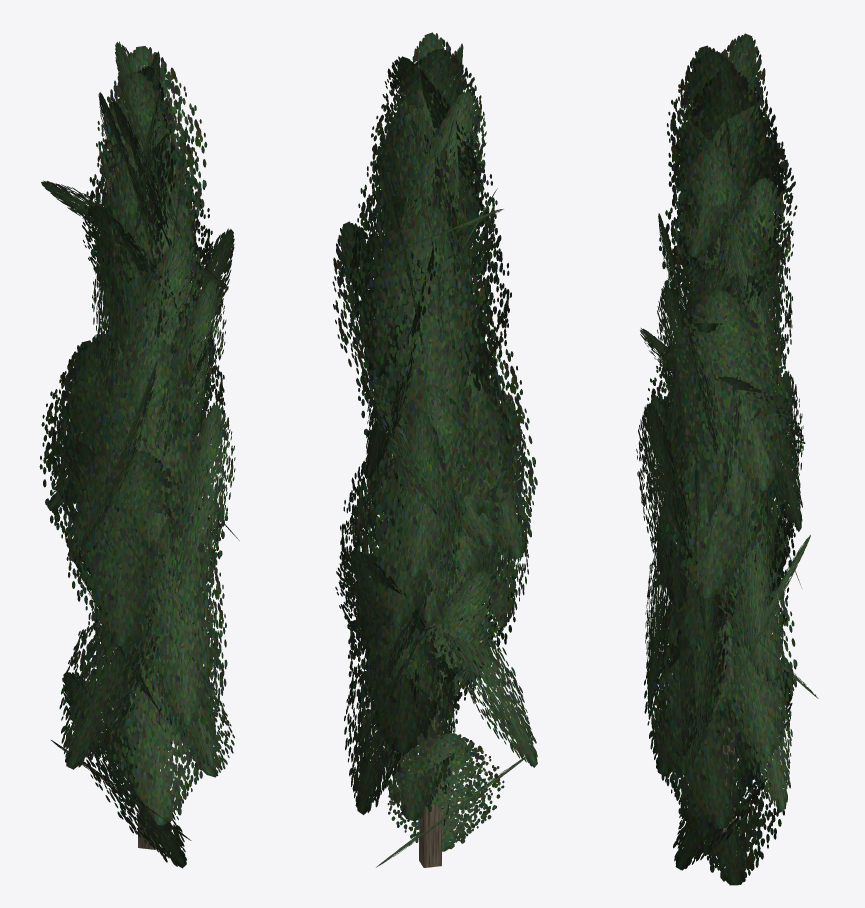
File: Tree_Cypress_2_LOD2.gltf
3 renders of one model, left to right at view 1: azimuth 30°, elevation 25°; view 2: azimuth 150°, elevation 25°; view 3: azimuth 270°, elevation 25°, orthographic. The views are drawn at different scales.
Parts seen in each view (by area): view 1: Tree_Cypress_2_LOD2; view 2: Tree_Cypress_2_LOD2; view 3: Tree_Cypress_2_LOD2.
Part boxes in pixels (box(x1,y1,x2,y2)): Tree_Cypress_2_LOD2: box(39, 41, 239, 868); Tree_Cypress_2_LOD2: box(332, 32, 537, 867); Tree_Cypress_2_LOD2: box(636, 33, 818, 885).
Bounding box in the file's own units: 4.71 × 17.51 × 4.83.
2 materials, 2 textured.
